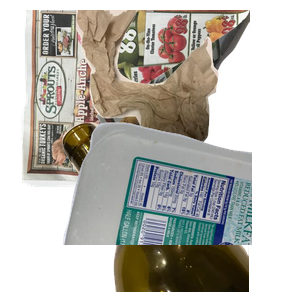glass: (60, 120, 300, 300)
paper: (18, 10, 258, 190)
plastic: (60, 120, 300, 300)
trash: (73, 10, 300, 163)
